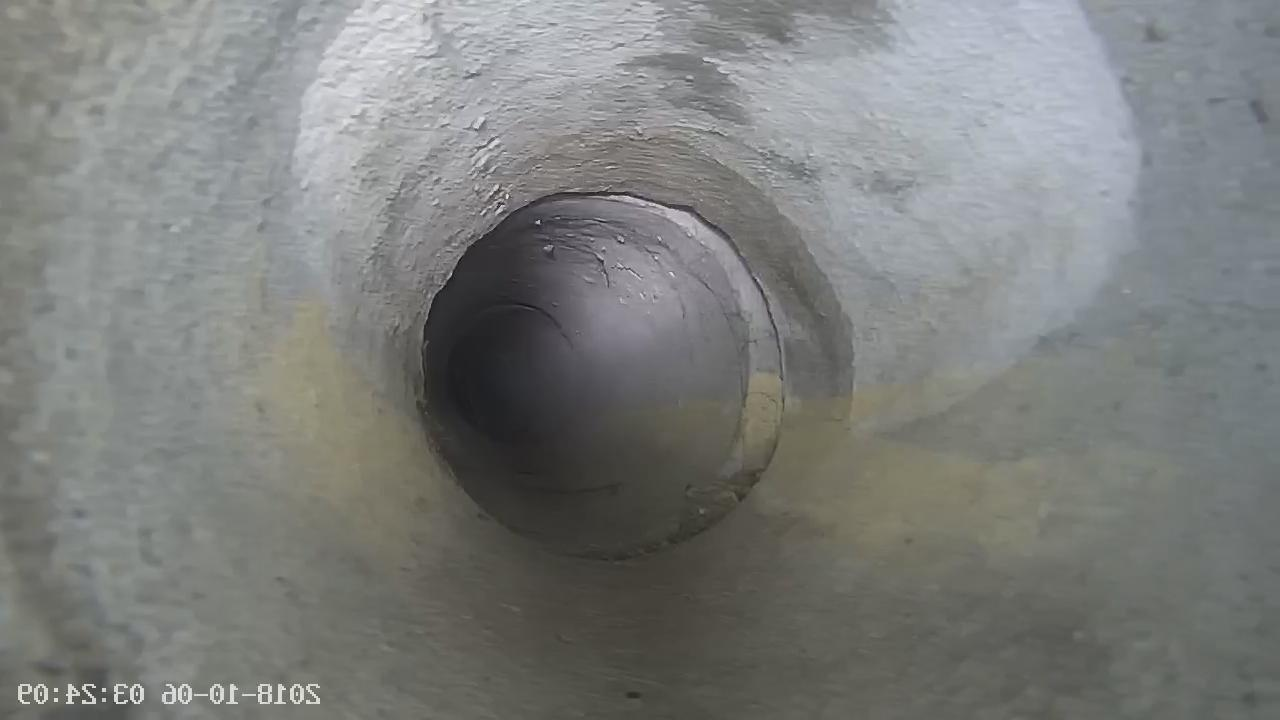CKTJ: (572, 194, 785, 560)
